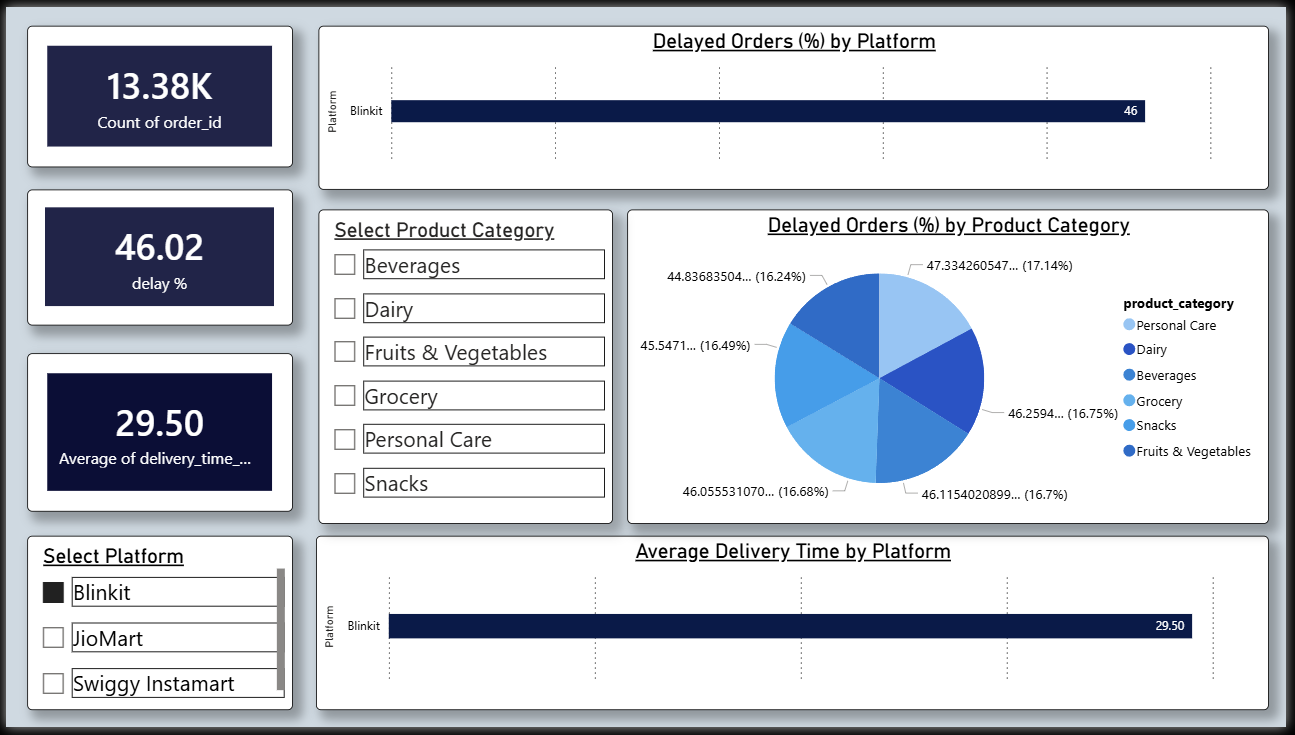

The dashboard page shown, as its layout file describes it:
{"tool":"powerbi","page":{"name":"Page 1","canvas":[1280,720],"ordinal":0},"visuals":[{"type":"cardVisual","fields":{"Data":["Count(ecommerce ecommerce_cleaned_final.order_id)"]},"box":[21.4,18.6,265.7,141.4],"z":0},{"type":"cardVisual","fields":{"Data":["Avg(ecommerce ecommerce_cleaned_final.delivery_time_minutes)"]},"box":[21.4,345.7,265.7,158.6],"z":1000},{"type":"cardVisual","fields":{"Data":["ecommerce ecommerce_cleaned_final.delay %"]},"box":[21.4,182.9,265.7,135.7],"z":2000},{"type":"clusteredBarChart","title":"Average Delivery Time by Platform","fields":{"Category":["ecommerce ecommerce_cleaned_final.Platform"],"Y":["Avg(ecommerce ecommerce_cleaned_final.delivery_time_minutes)"]},"box":[310,528.6,952.9,174.3],"z":3000},{"type":"pieChart","title":"Delayed Orders (%) by Product Category","fields":{"Category":["ecommerce ecommerce_cleaned_final.product_category"],"Y":["ecommerce ecommerce_cleaned_final.delay %"]},"box":[621.4,202.9,641.4,314.3],"z":4000},{"type":"clusteredBarChart","title":"Delayed Orders (%) by Platform","fields":{"Category":["ecommerce ecommerce_cleaned_final.Platform"],"Y":["ecommerce ecommerce_cleaned_final.delay %"]},"box":[312.9,18.6,950,164.3],"z":5000},{"type":"slicer","fields":{"Values":["ecommerce ecommerce_cleaned_final.Platform"]},"box":[21.4,528.6,265.7,174.3],"z":6000},{"type":"slicer","fields":{"Values":["ecommerce ecommerce_cleaned_final.product_category"]},"box":[312.9,202.9,294.3,314.3],"z":6001}]}

Visuals, with their boxes in screenshot pixels (x1, y1, x2, y2), scaled from the page's 1280x720 canvas onto the 1295x735 screenshot:
cardVisual - Count(ecommerce ecommerce_cleaned_final.order_id): 22,19,290,163
cardVisual - Avg(ecommerce ecommerce_cleaned_final.delivery_time_minutes): 22,353,290,515
cardVisual - ecommerce ecommerce_cleaned_final.delay %: 22,187,290,325
"Average Delivery Time by Platform" clusteredBarChart: 314,540,1278,718
"Delayed Orders (%) by Product Category" pieChart: 629,207,1278,528
"Delayed Orders (%) by Platform" clusteredBarChart: 317,19,1278,187
slicer - ecommerce ecommerce_cleaned_final.Platform: 22,540,290,718
slicer - ecommerce ecommerce_cleaned_final.product_category: 317,207,614,528
